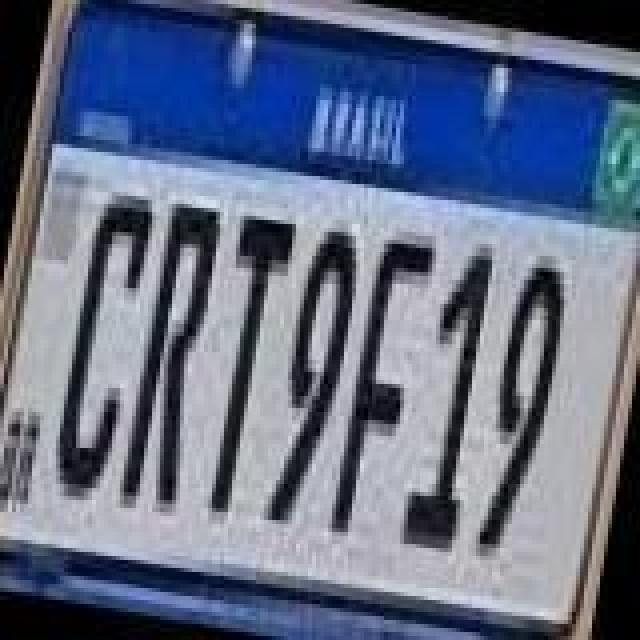1: (398, 242, 506, 558)
9: (256, 218, 368, 534), (466, 252, 574, 564)
C: (46, 184, 162, 504)
F: (328, 226, 440, 542)
R: (116, 196, 228, 516)
T: (188, 210, 300, 526)
